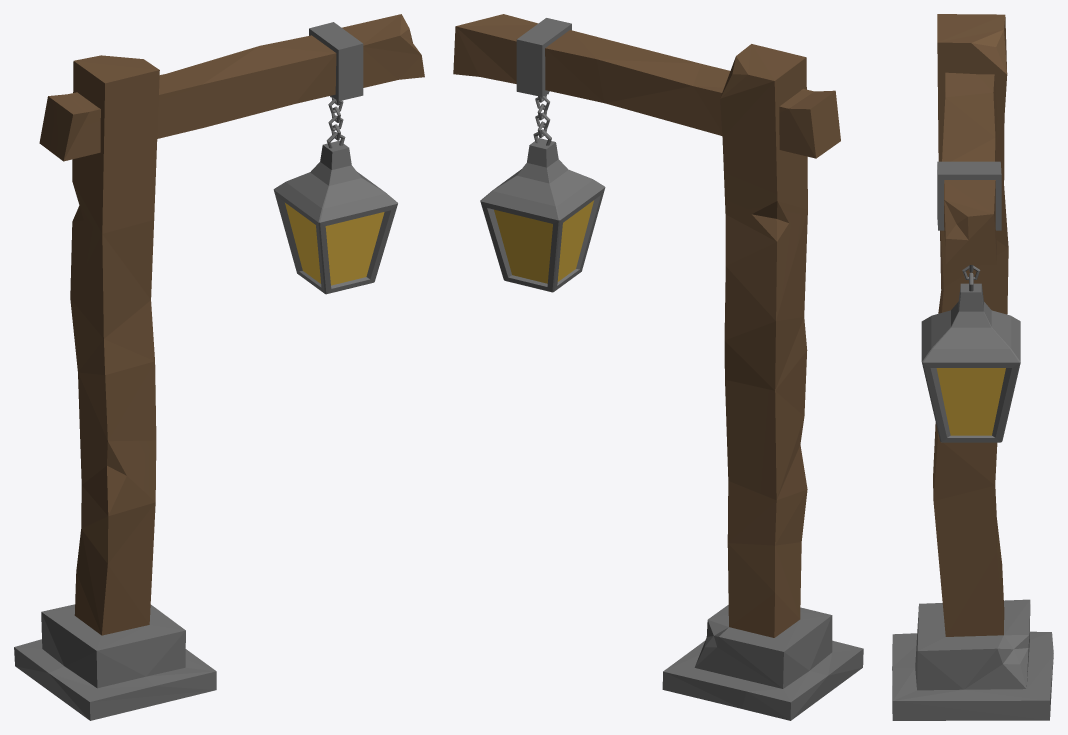
The model's file is Lantern.fbx.
3 views of the same model, side by side, from view 1: azimuth 30°, elevation 25°; view 2: azimuth 150°, elevation 25°; view 3: azimuth 270°, elevation 25° (orthographic). The views are drawn at different scales.
Visible parts, largest first — view 1: Lantern; view 2: Lantern; view 3: Lantern.
Part boxes in pixels (x1,y1,x2,y2): Lantern: [14, 14, 424, 720]; Lantern: [453, 14, 863, 720]; Lantern: [892, 14, 1053, 720].
Bounding box in the file's own units: 2.65 × 4.28 × 0.9512.
